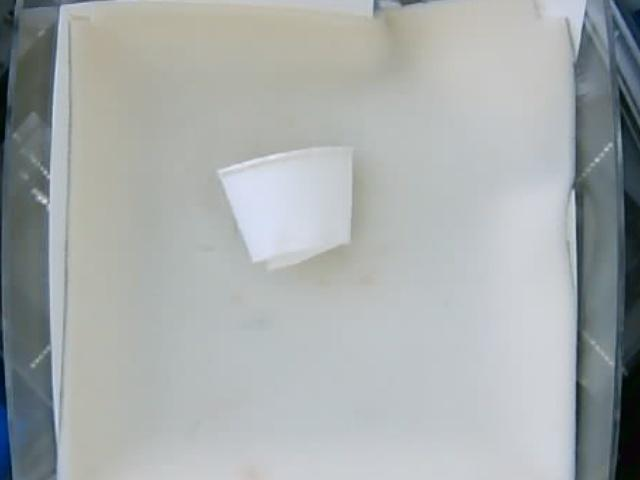Cup: (216, 142, 351, 269)
